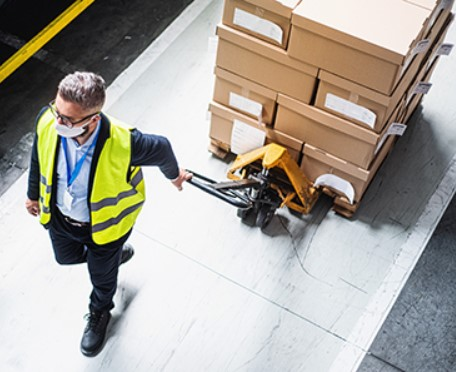worker: (39, 74, 144, 245)
